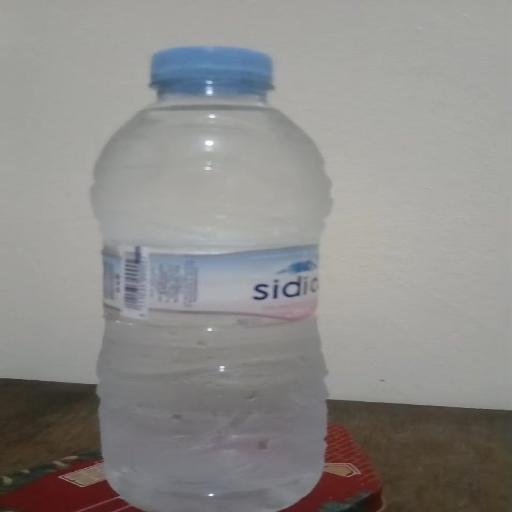bouteille conformite: (91, 46, 382, 511)
